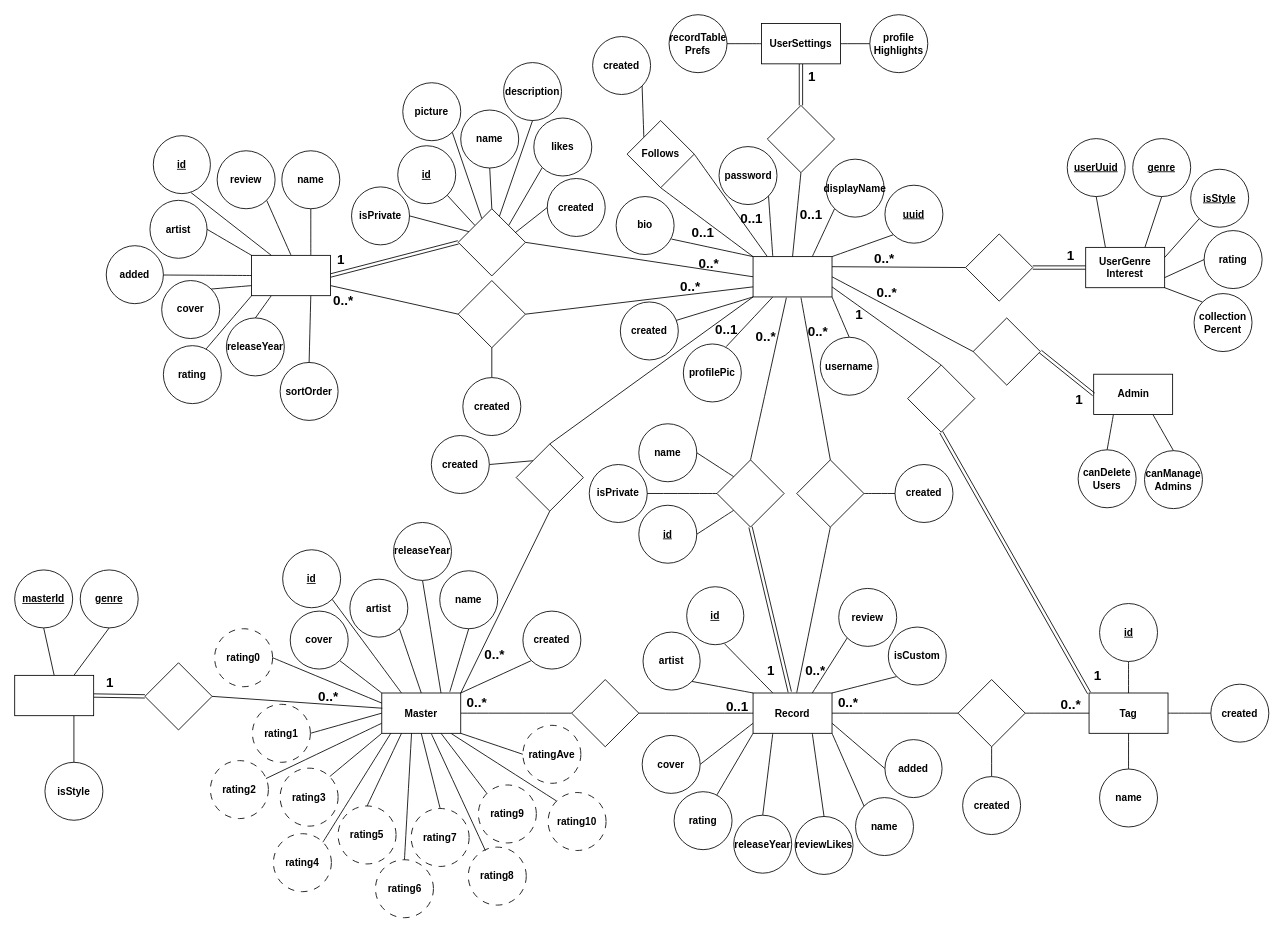
Image size: 1284x932. Some labels were removed from this diagram. The centre of each missing label's shape, as x and y in pixels:
"Applies settings" goes at (x=800, y=139).
"Creates" goes at (x=941, y=398).
"Has Admin Perms?" goes at (x=1006, y=351).
"has genre interests" goes at (x=999, y=267).
"has table of records" goes at (x=750, y=493).
"In List of" goes at (x=491, y=242).
"Liked by" goes at (x=491, y=314).
"Likes Review" goes at (x=830, y=493).
"Listening to" goes at (x=549, y=477).
"ListRecord" goes at (x=291, y=275).
"master of" goes at (x=605, y=713).
"MasterGenre" goes at (x=54, y=695).
"style of" goes at (x=178, y=696).
"Tagged by" goes at (x=991, y=713).
"User" goes at (x=792, y=276).
